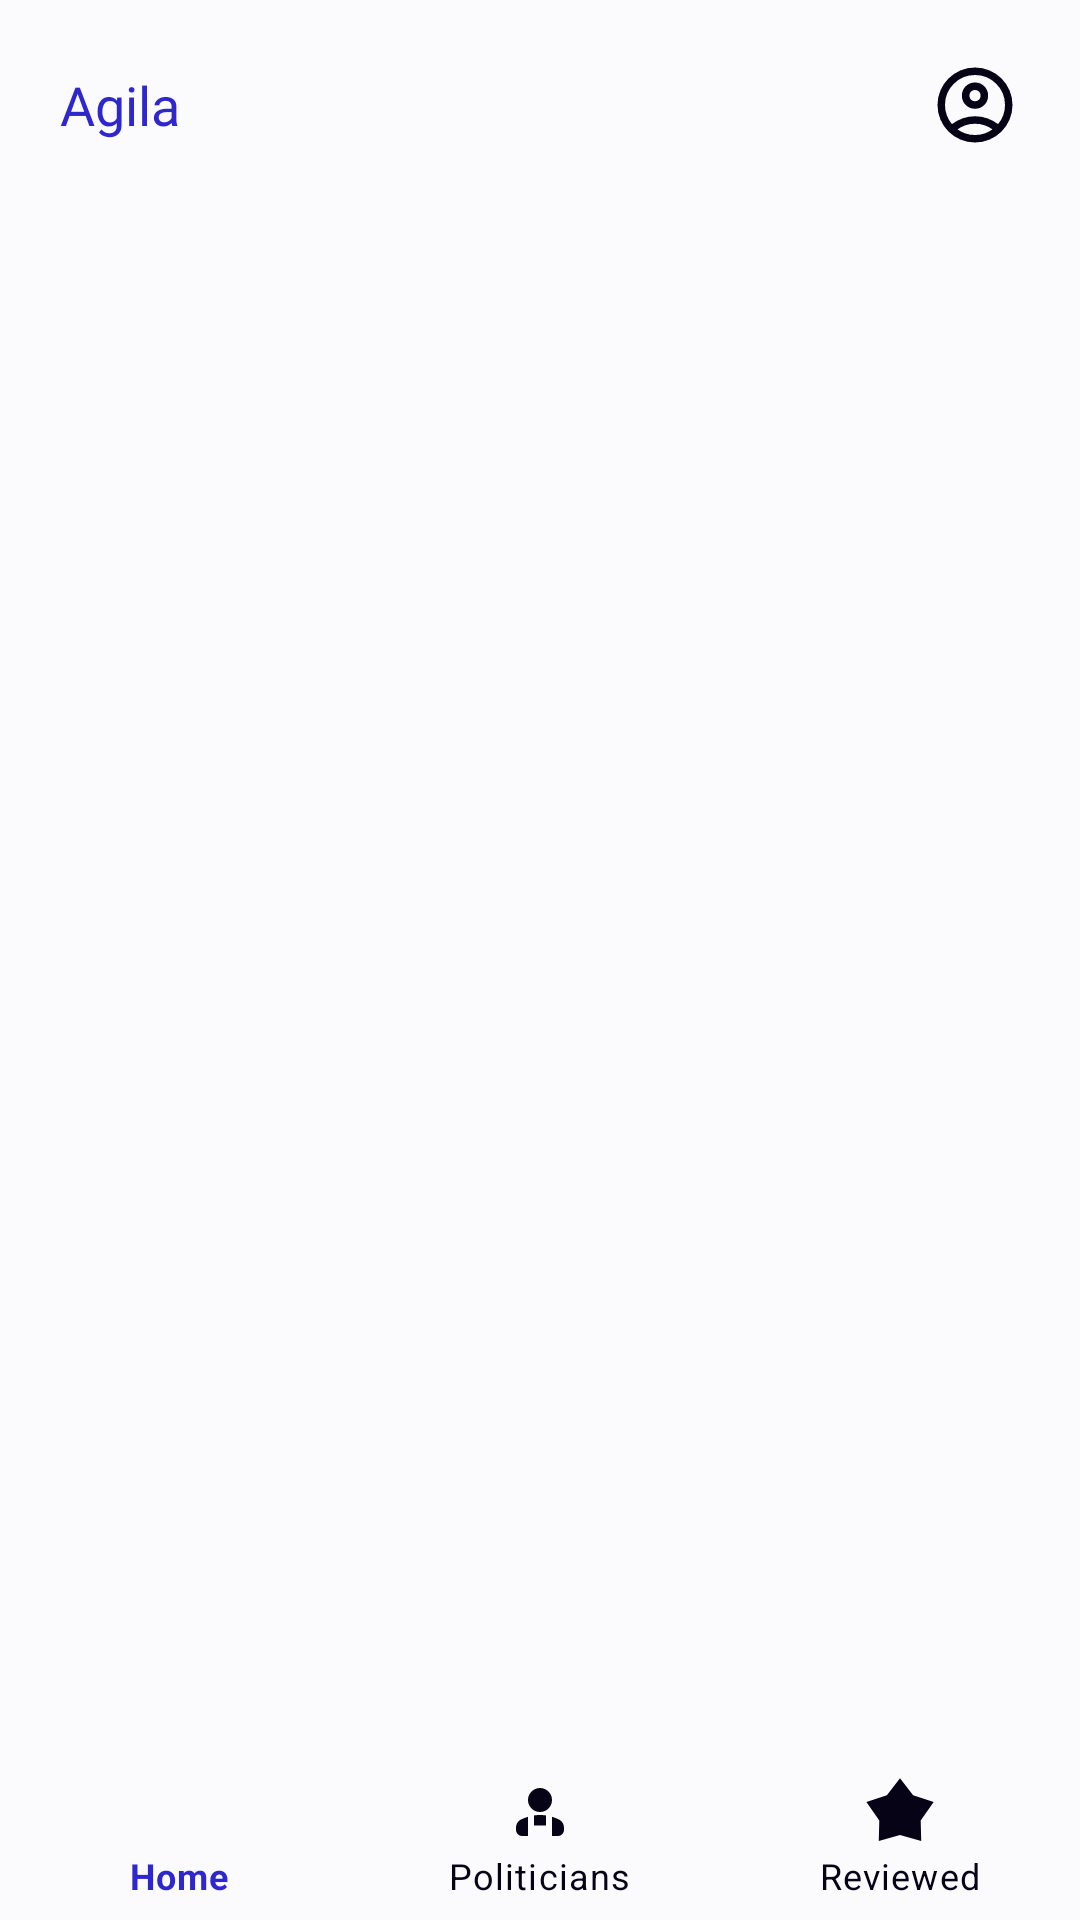

Where to tap for icons on this 1080w x 1920h app screen, as (x,y):
symbols account circle: (975,105)
